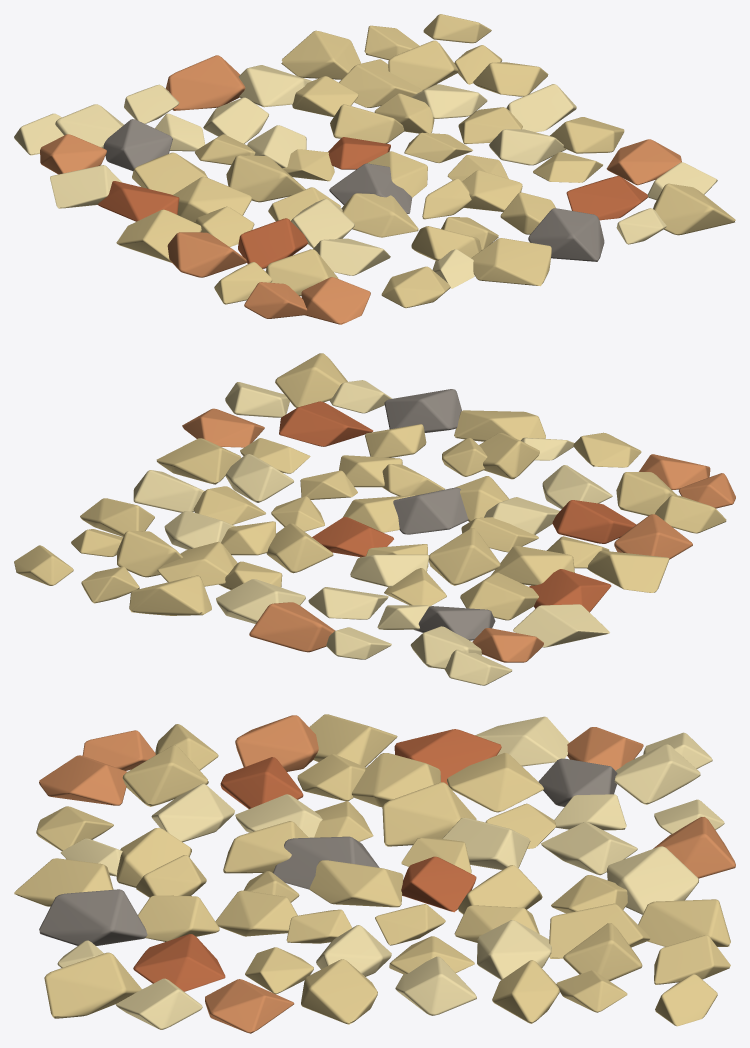
Rendered from minerai_sable_1.glb.
The picture shows the model from 3 angles, top to bottom: view 1: azimuth 30°, elevation 25°; view 2: azimuth 150°, elevation 25°; view 3: azimuth 270°, elevation 25°; orthographic projection. The views are drawn at different scales.
Visible parts, largest first — view 1: sable_sable.004, sable_sable_clair.004, sable_gres_clair.004, sable_gres.004, sable_pierre_claire.004; view 2: sable_sable.004, sable_sable_clair.004, sable_gres_clair.004, sable_gres.004, sable_pierre_claire.004; view 3: sable_sable.004, sable_sable_clair.004, sable_gres_clair.004, sable_gres.004, sable_pierre_claire.004.
Part boxes in pixels (x1,y1,x2,y2): sable_sable.004: (116,14,735,308); sable_sable_clair.004: (14,65,717,288); sable_gres_clair.004: (40,55,681,324); sable_gres.004: (97,137,648,268); sable_pierre_claire.004: (103,119,604,261); sable_sable.004: (14,353,726,620); sable_sable_clair.004: (133,380,612,685); sable_gres_clair.004: (182,408,735,662); sable_gres.004: (279,401,636,612); sable_pierre_claire.004: (384,389,495,640); sable_sable.004: (14,714,730,1026); sable_sable_clair.004: (57,716,724,1029); sable_gres_clair.004: (39,715,735,1033); sable_gres.004: (133,729,501,991); sable_pierre_claire.004: (39,758,617,945).
Bounding box in the file's own units: 0.5157 × 0.0309 × 0.5126.
